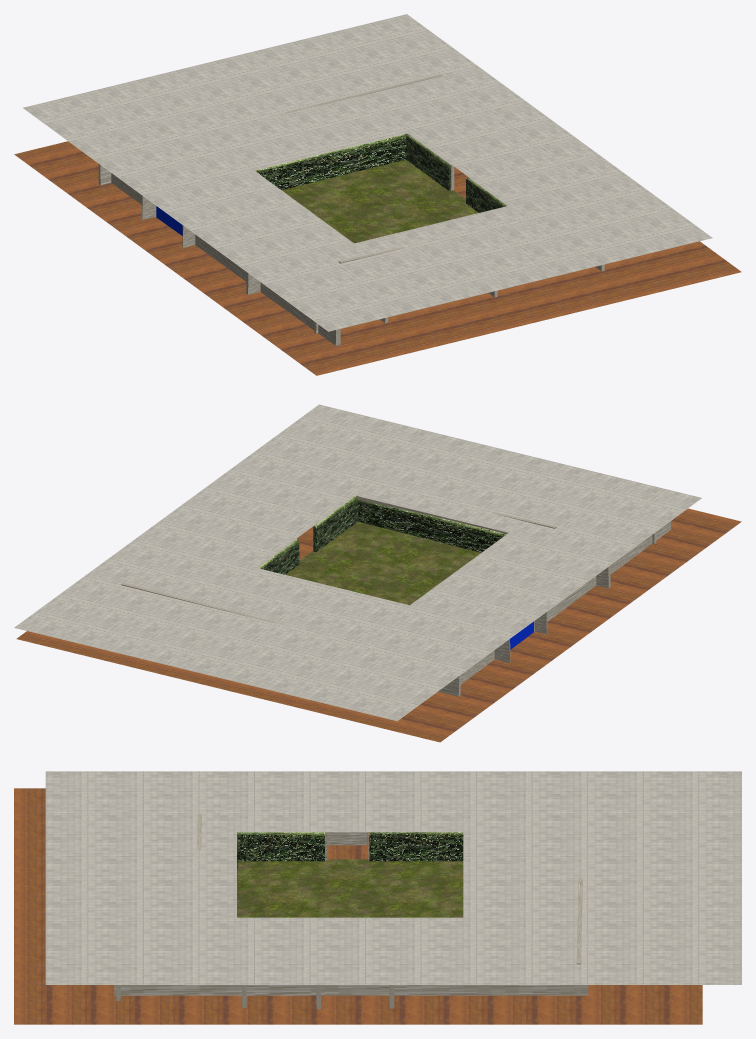
Rendered from fimap.glb.
The picture shows the model from 3 angles, top to bottom: view 1: azimuth 30°, elevation 25°; view 2: azimuth 150°, elevation 25°; view 3: azimuth 270°, elevation 25°; orthographic projection. The views are drawn at different scales.
Visible parts, largest first — view 1: roof, floor, grass, HEDGE.006, Cube.025, HEDGE.003, HEDGE.001, Cube.004; view 2: roof, floor, grass, HEDGE.005, HEDGE.001, Cube.025, HEDGE.003, Cube.004; view 3: roof, floor, grass, Cube.003, HEDGE.002, HEDGE.007, Cube.028, Cube.004.
Boxes of the visible parts, x1,y1,x2,y2 form: roof: (23, 14, 712, 331); floor: (14, 141, 741, 375); grass: (282, 160, 478, 243); HEDGE.006: (255, 134, 406, 189); Cube.025: (195, 234, 340, 345); HEDGE.003: (406, 134, 450, 190); HEDGE.001: (466, 177, 506, 212); Cube.004: (98, 74, 442, 185); roof: (14, 404, 701, 721); floor: (16, 508, 741, 742); grass: (286, 521, 480, 605); HEDGE.005: (358, 500, 506, 552); HEDGE.001: (313, 495, 358, 551); Cube.025: (534, 521, 671, 631); HEDGE.003: (258, 539, 299, 574); Cube.004: (121, 583, 460, 696); roof: (45, 771, 741, 984); floor: (14, 788, 702, 1024); grass: (237, 859, 463, 917); Cube.003: (114, 985, 588, 995); HEDGE.002: (369, 832, 463, 861); HEDGE.007: (237, 832, 326, 861); Cube.028: (327, 832, 366, 845); Cube.004: (576, 878, 582, 995).
Bounding box in the file's own units: 97.19 × 8.16 × 127.
141 materials, 63 textured.
